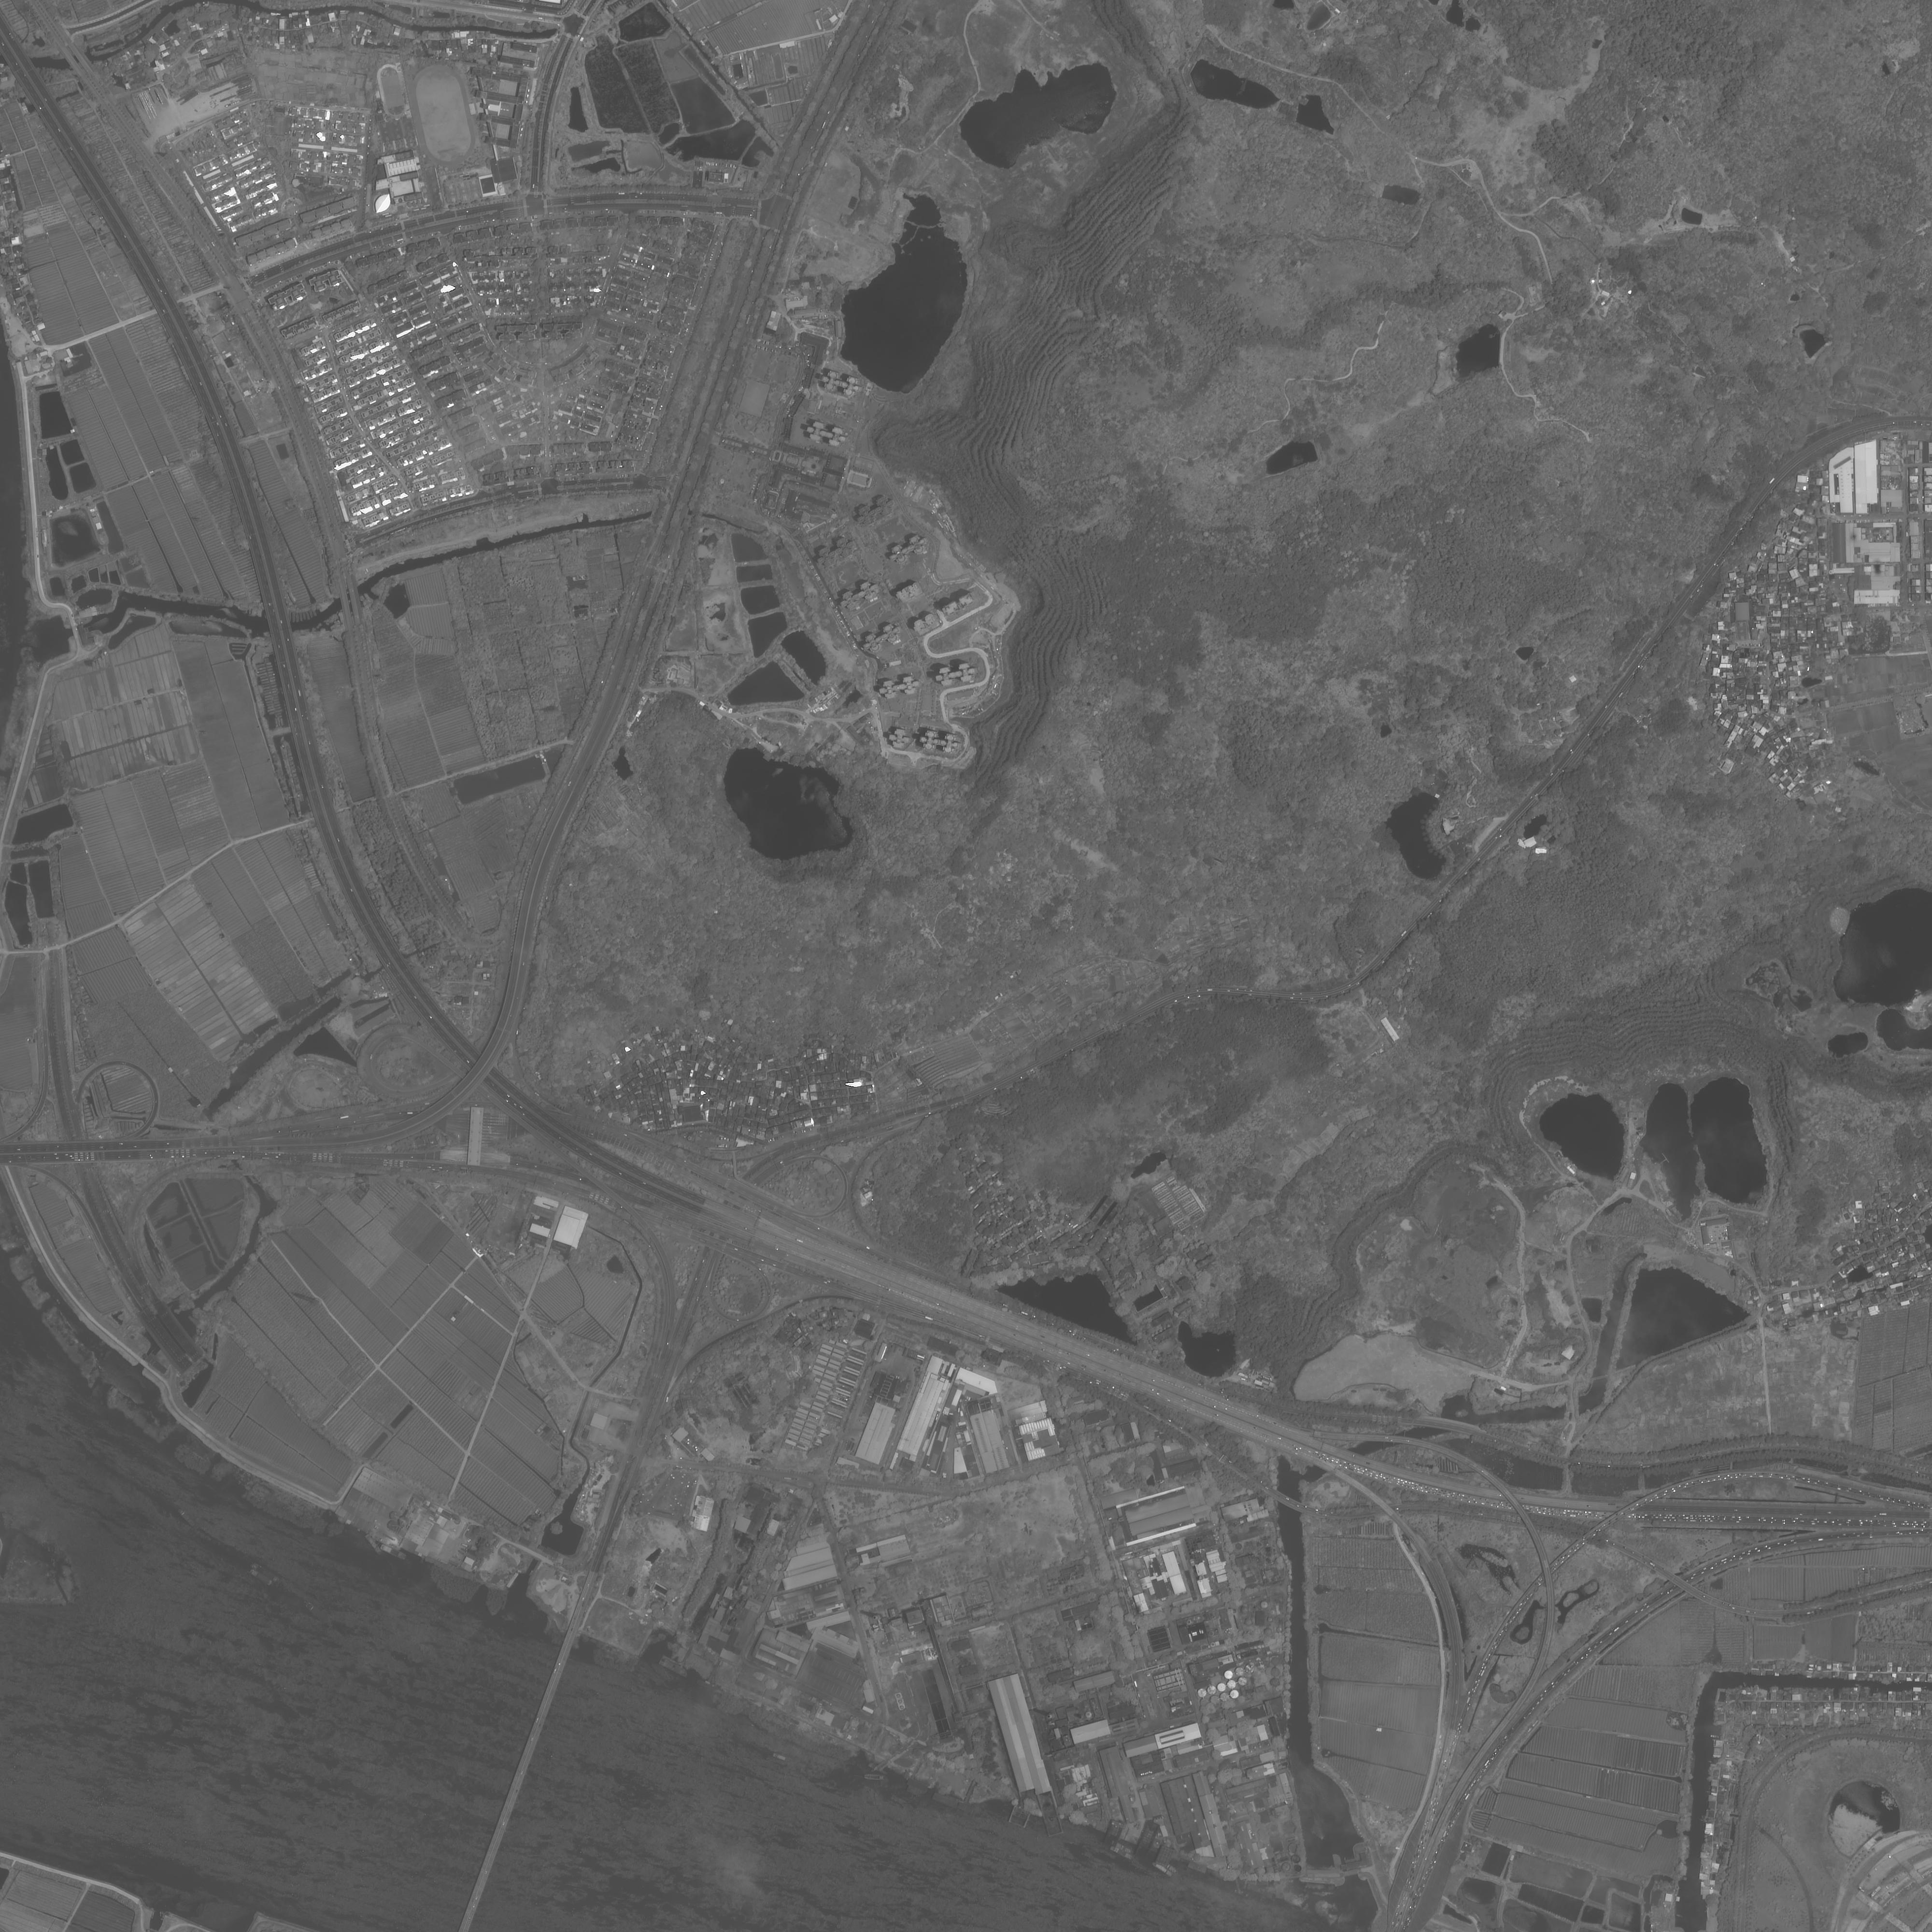ship: (379, 1541, 409, 1564), (249, 1562, 278, 1583), (177, 1507, 196, 1527), (249, 1569, 272, 1585), (1150, 1861, 1173, 1877), (1109, 1845, 1134, 1859), (863, 1771, 886, 1782), (1162, 1861, 1178, 1874), (1116, 1842, 1132, 1854), (773, 1752, 789, 1762)
